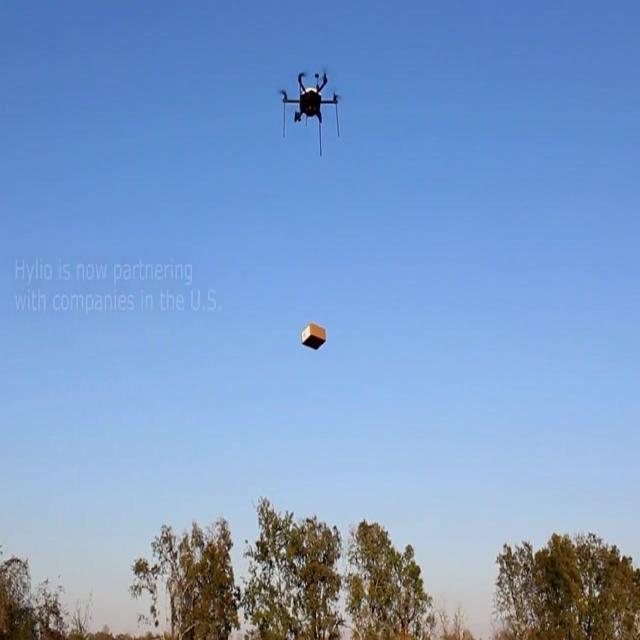UAV: (276, 66, 340, 156)
